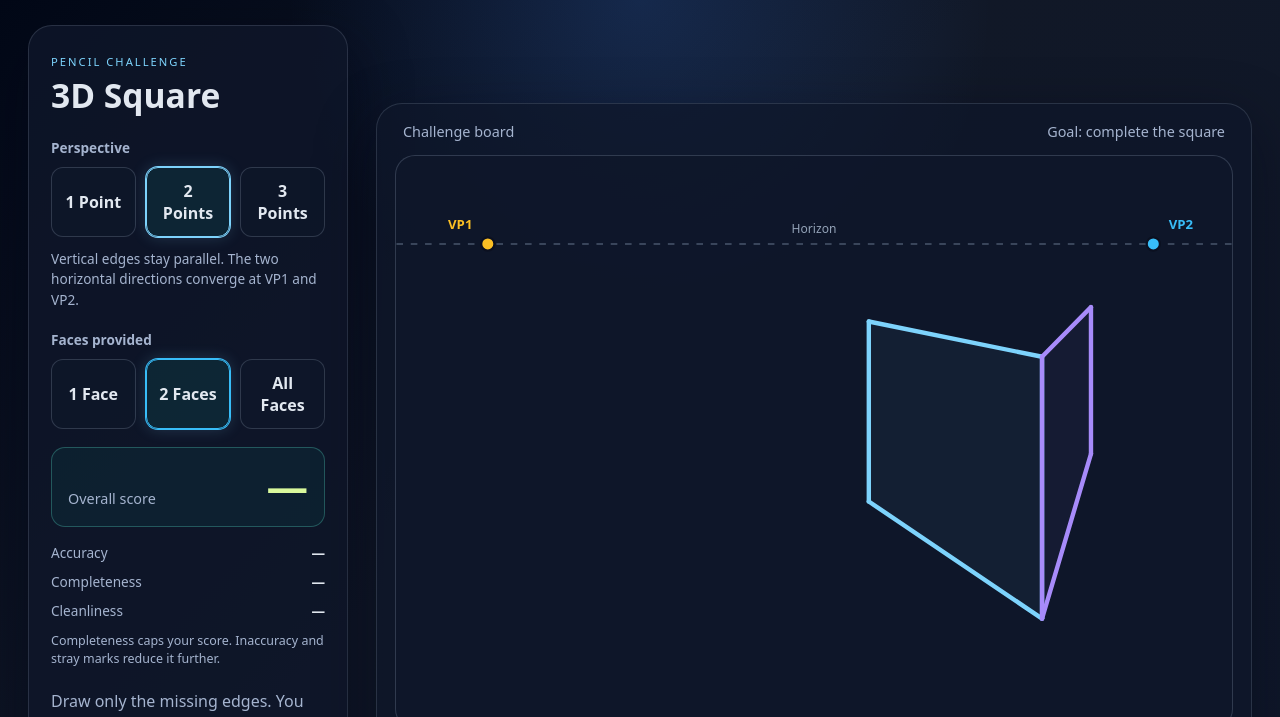
Test: awards 100% for missing edges in 1-point perspective with 1 face supplied
Click the button with aria-label "1 vanishing point": point(93, 202) [51,167,136,237]
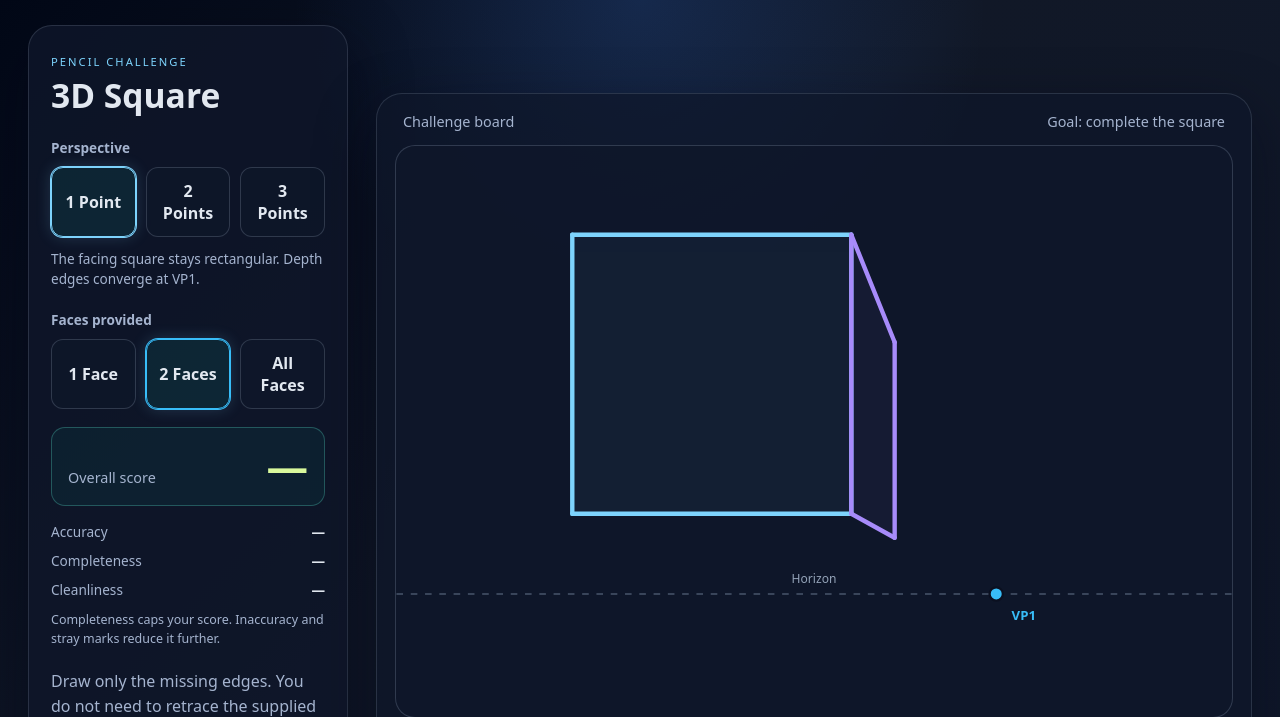
Click the button "1 face": point(93, 374) [51,339,136,409]
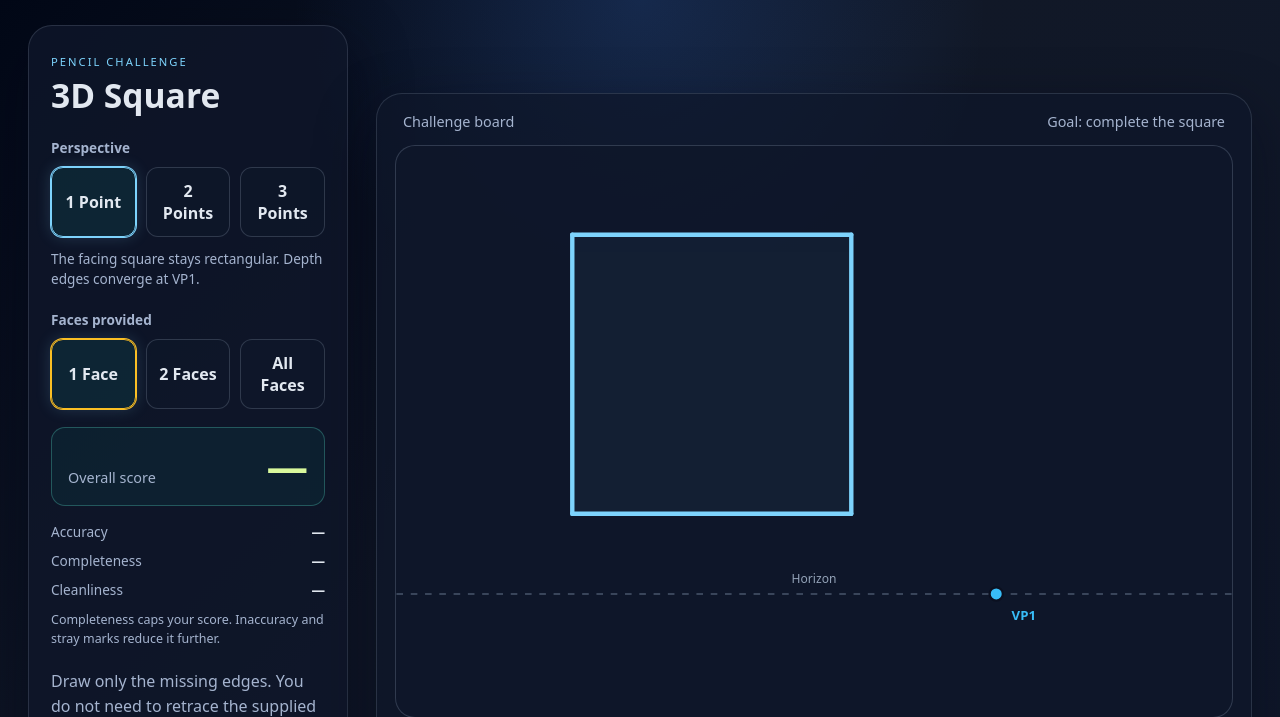
Press the mouse on the drawing named "Drawing canvas": point(814, 432) [396,146,1232,716]
Press the mouse on the drawing named "Drawing canvas": point(814, 432) [396,146,1232,716]
Press the mouse on the drawing named "Drawing canvas": point(814, 432) [396,146,1232,716]
Press the mouse on the drawing named "Drawing canvas": point(814, 432) [396,146,1232,716]
Press the mouse on the drawing named "Drawing canvas": point(814, 432) [396,146,1232,716]
(page scrolled)
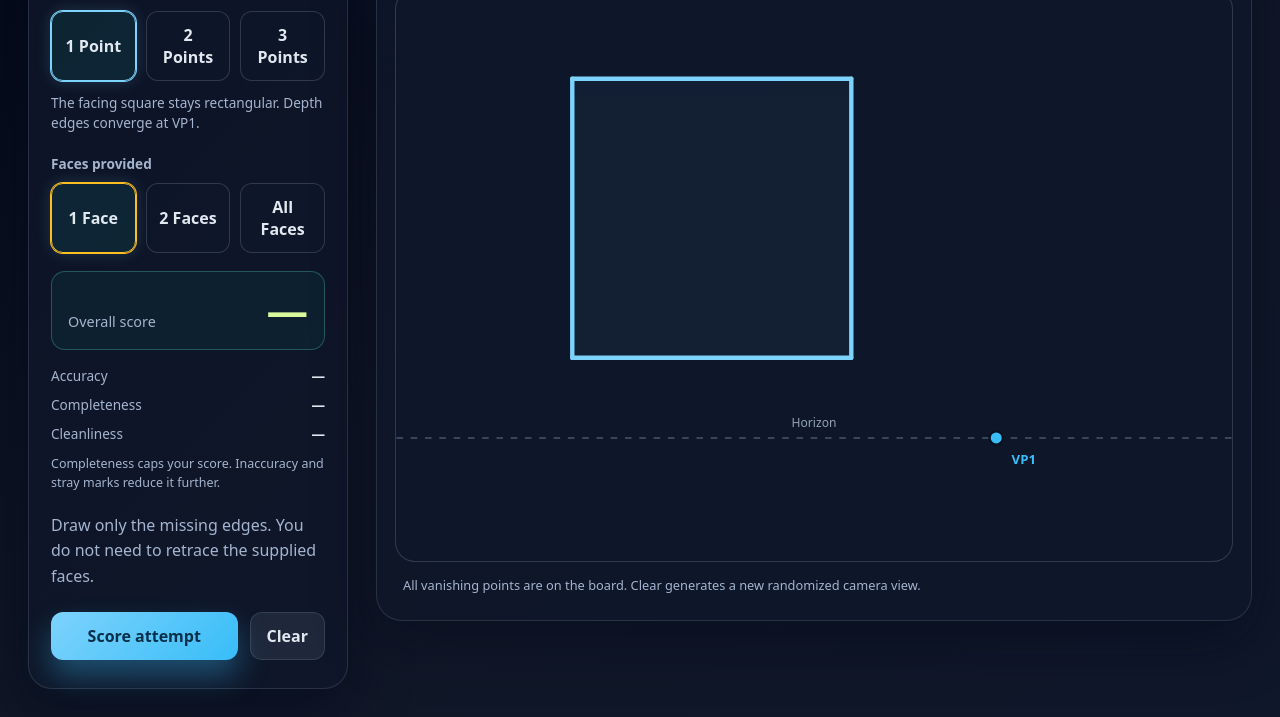
Click the button "Score attempt": point(144, 636) [51,612,238,660]
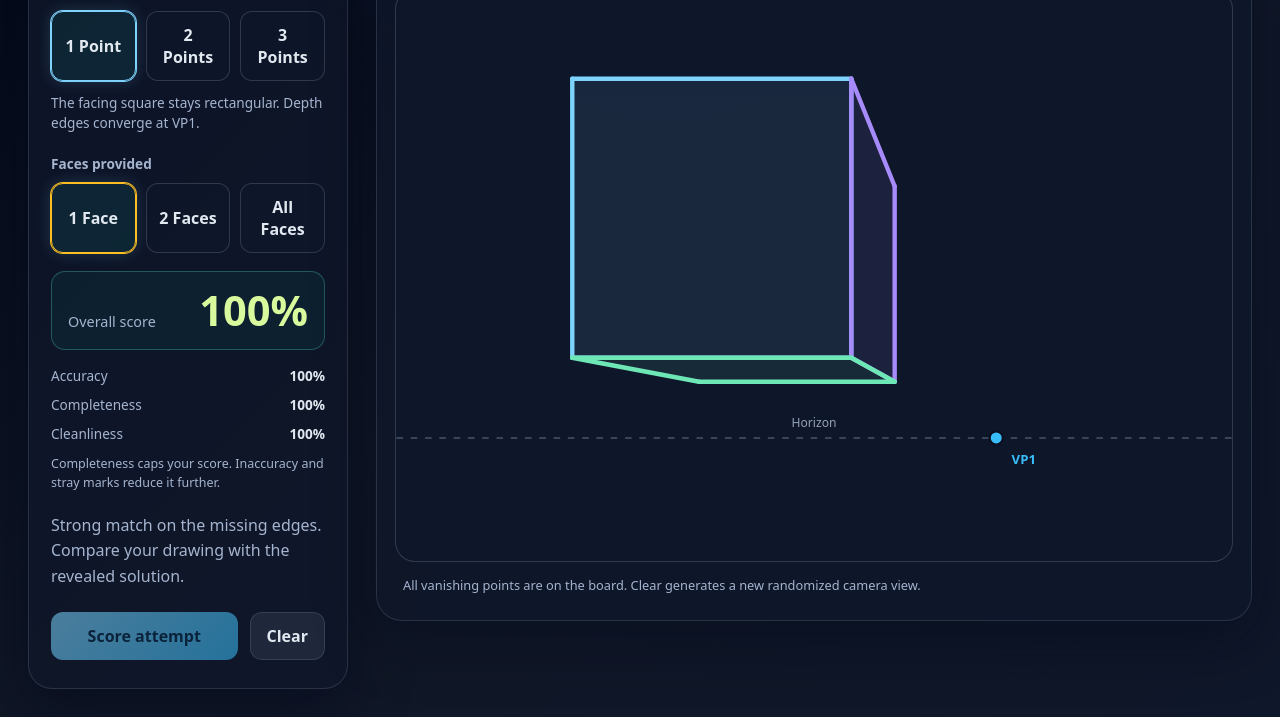
Expected: the text named "Overall score" reads "100%", [199,282,308,338]
